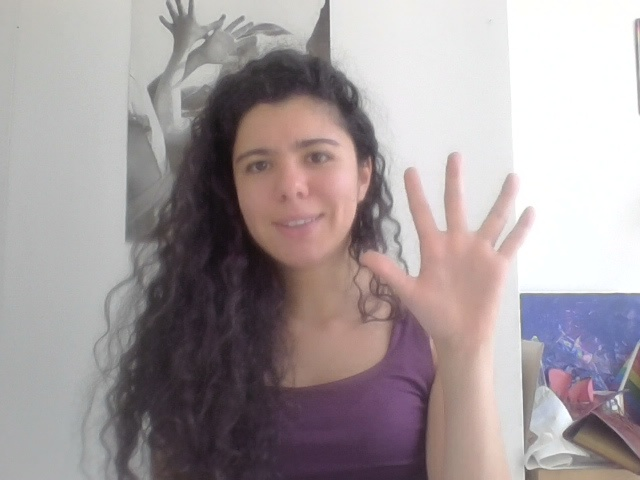Hi: (350, 146, 556, 371)
